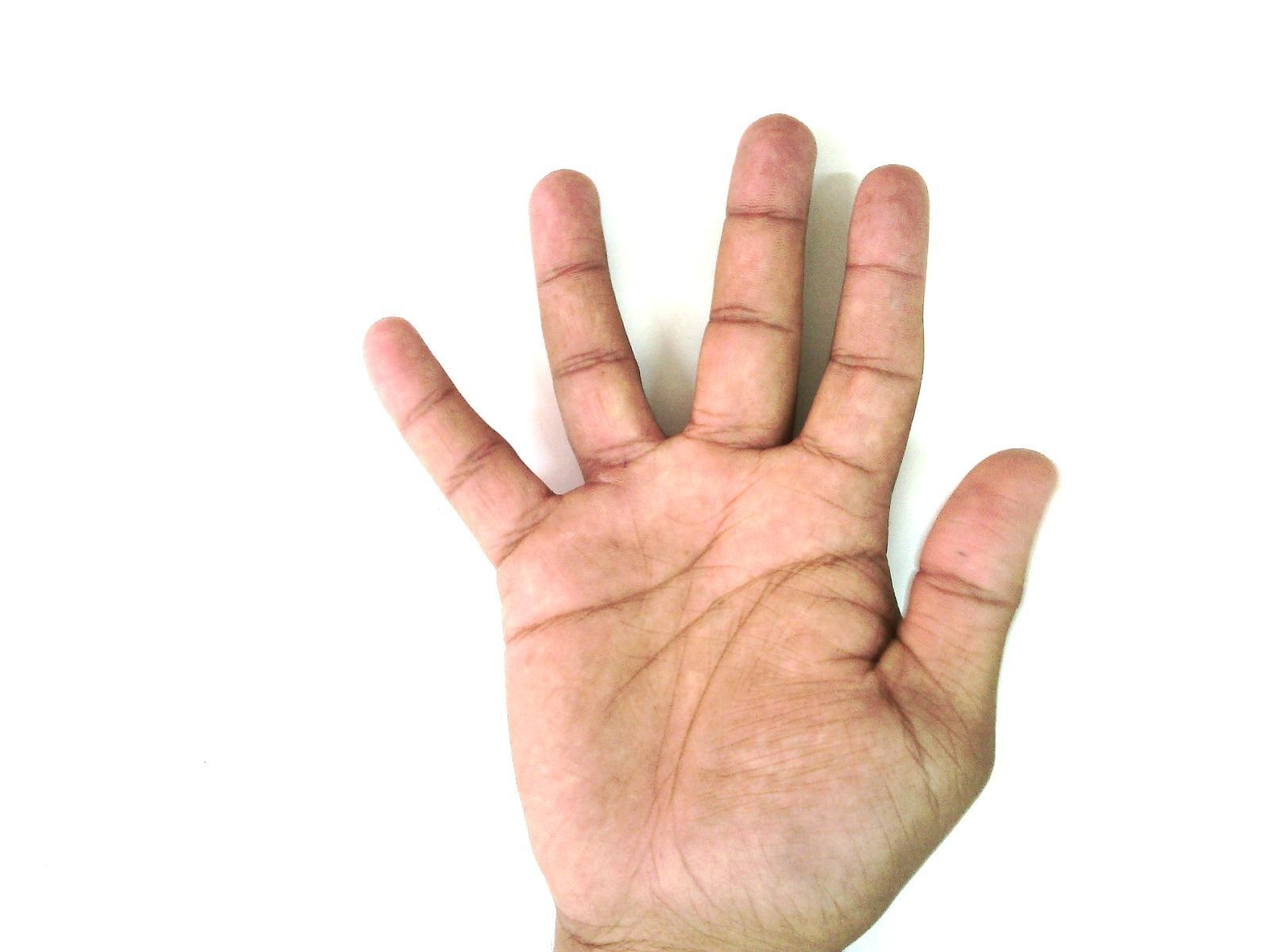open_palm: (360, 112, 1061, 951)
